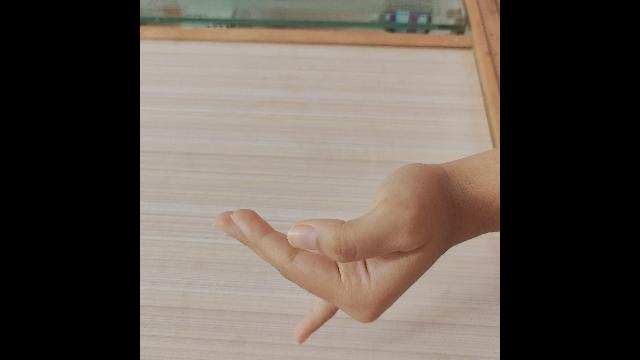Hamsapaksha: (216, 146, 500, 344)
